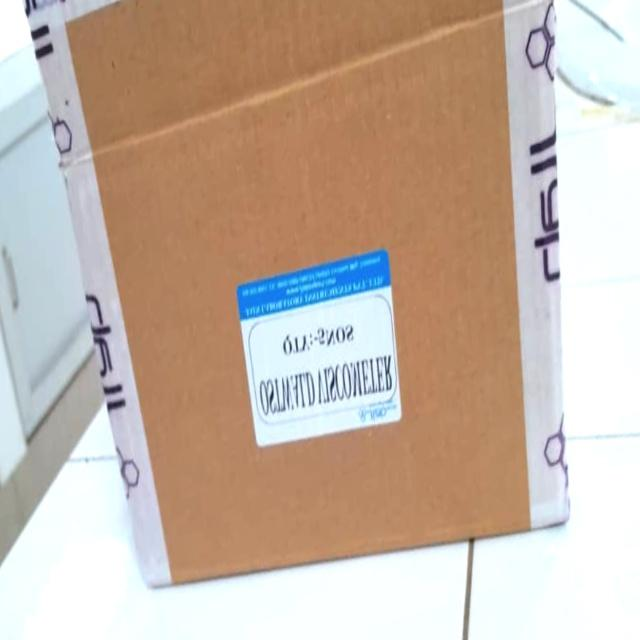Ostwald Viscometer: (98, 106, 572, 634)
